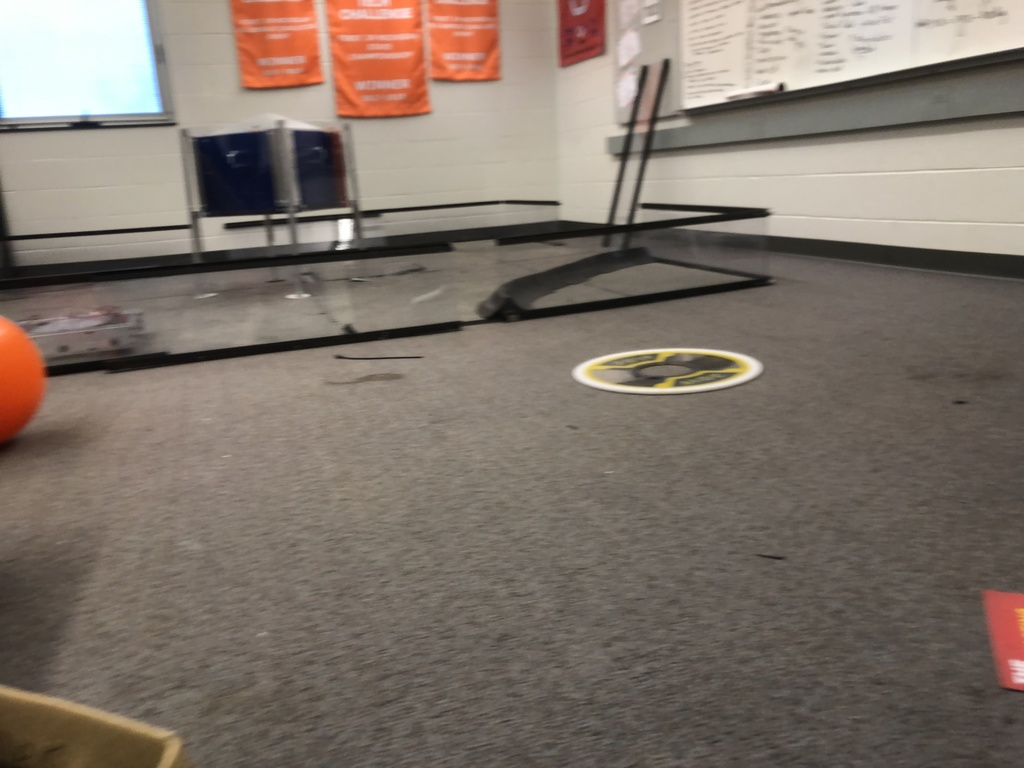hatch_panel: (566, 342, 781, 403)
